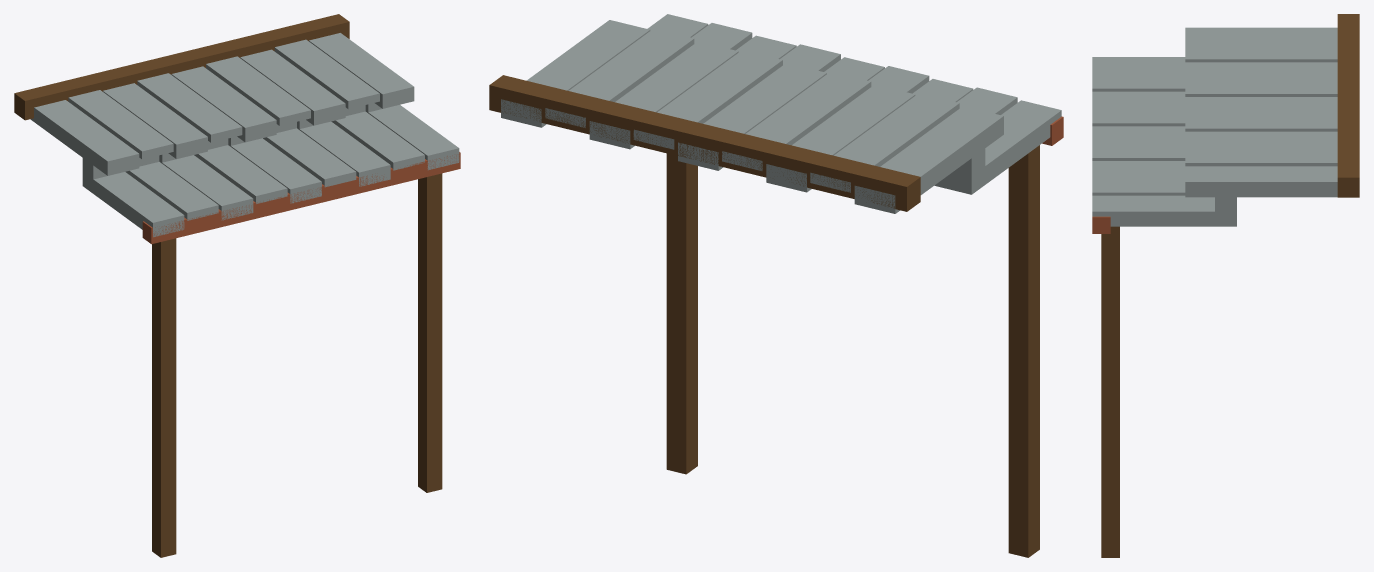
File: env_atip_yero.obj
3 renders of one model, left to right at view 1: azimuth 30°, elevation 25°; view 2: azimuth 150°, elevation 25°; view 3: azimuth 270°, elevation 25°, orthographic. The views are drawn at different scales.
Visible parts, largest first — view 1: AtipYero; view 2: AtipYero; view 3: AtipYero.
Boxes of the visible parts, bbox=[...] form: AtipYero: bbox=[14, 14, 460, 557]; AtipYero: bbox=[489, 14, 1063, 557]; AtipYero: bbox=[1092, 14, 1359, 557].
Size of the model in its own units: 2.1 by 2.34 by 1.45.
